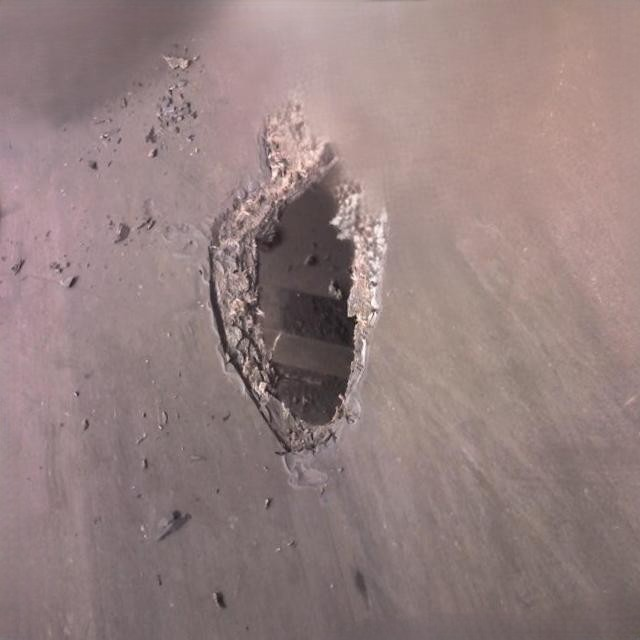Hole: (195, 88, 402, 460)
